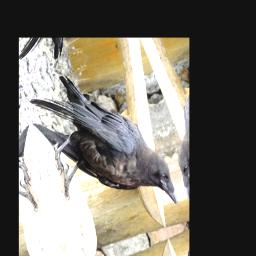Crow: (24, 47, 180, 246)
